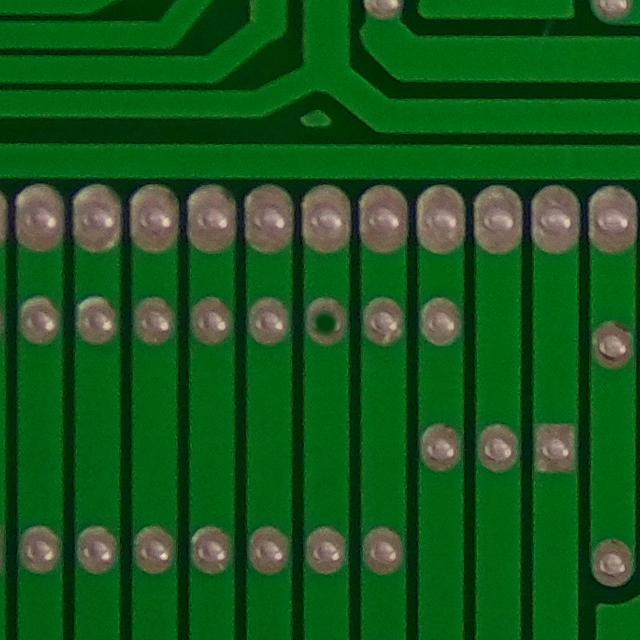missing_hole: (294, 290, 347, 351)
